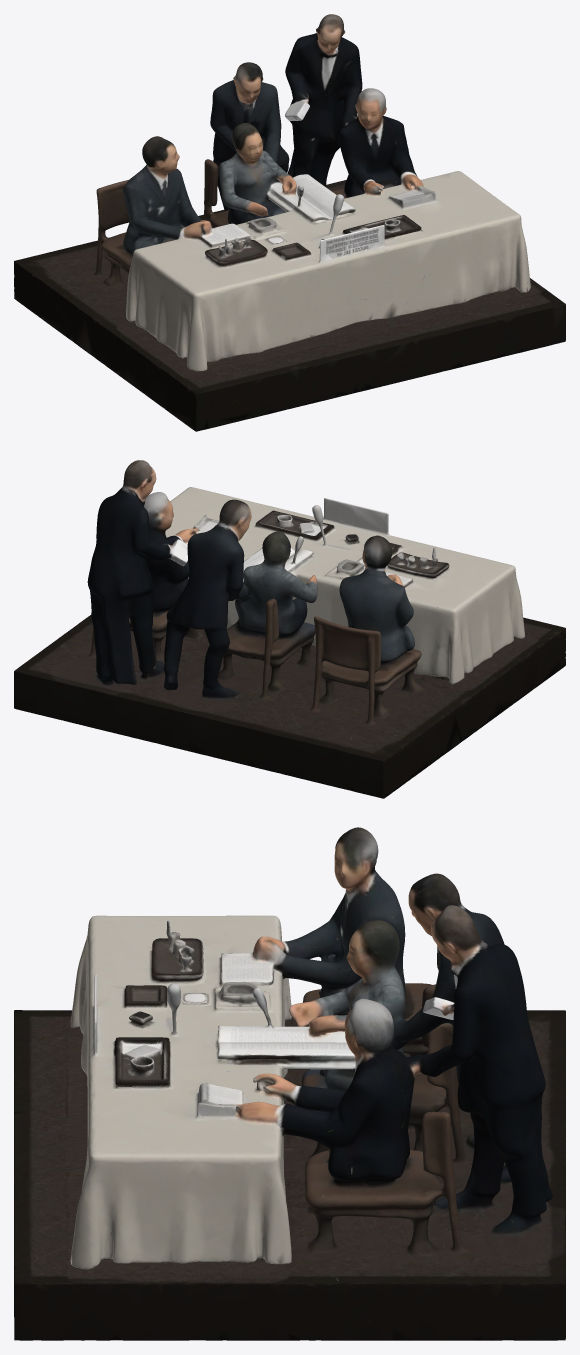
Rendered from madam_binh_ky_hiep_dinh_paris.glb.
3 renders of one model, top to bottom at view 1: azimuth 30°, elevation 25°; view 2: azimuth 150°, elevation 25°; view 3: azimuth 270°, elevation 25°, orthographic. The views are drawn at different scales.
Size of the model in its own units: 1.66 by 1.04 by 1.42.
Materials: 1 (1 with a texture image).
